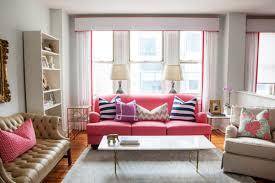chair: (223, 104, 275, 182)
light: (160, 60, 184, 93), (108, 64, 133, 94)
sofa: (86, 95, 214, 152), (0, 109, 69, 183)
table: (95, 135, 216, 175), (206, 111, 231, 136), (69, 104, 91, 132)
